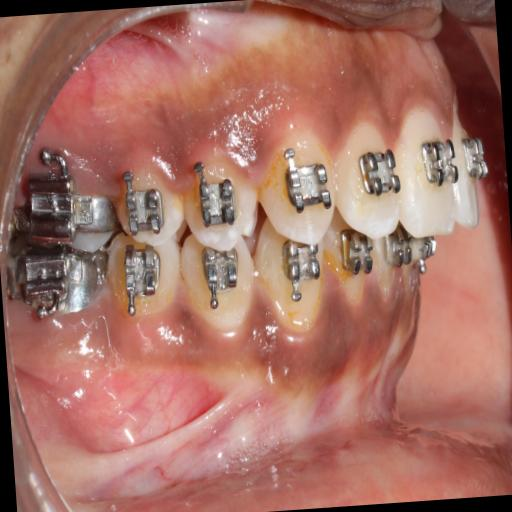correct_brace: (179, 148, 261, 250), (354, 142, 402, 206), (280, 158, 332, 216), (417, 133, 462, 190)
incorrect_brace: (328, 114, 404, 246), (194, 174, 238, 233)
